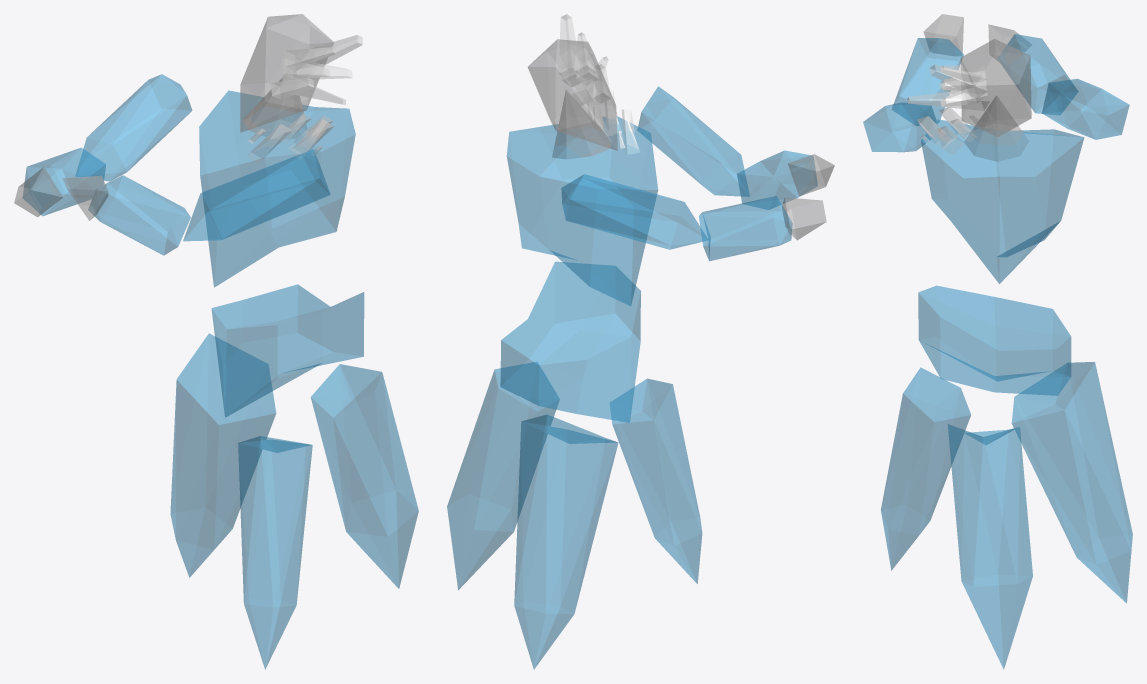
The model's file is ghostDistanceAttack22.obj.
3 renders of one model, left to right at view 1: azimuth 30°, elevation 25°; view 2: azimuth 150°, elevation 25°; view 3: azimuth 270°, elevation 25°, orthographic. The views are drawn at different scales.
Parts seen in each view (by area): view 1: Cube.001_Cube.007, Icosphere.020, Icosphere.019, Cube_Cube.007, Icosphere.018, Icosphere.005_Icosphere.007, Icosphere.003_Icosphere.007, Icosphere.007_Icosphere.006, Icosphere.006_Icosphere.006, Icosphere.008_Icosphere.006, Cone_Cone.007, Cube.003_Cube.007 (+7 smaller); view 2: Cube.001_Cube.007, Cube_Cube.007, Icosphere.020, Icosphere.019, Icosphere.018, Icosphere.007_Icosphere.006, Icosphere.003_Icosphere.007, Icosphere.005_Icosphere.007, Icosphere.008_Icosphere.006, Icosphere.006_Icosphere.006, Cone_Cone.007, Cube.003_Cube.007 (+3 smaller); view 3: Cube.001_Cube.007, Icosphere.020, Icosphere.019, Cube_Cube.007, Icosphere.018, Icosphere.003_Icosphere.007, Icosphere.007_Icosphere.006, Icosphere.008_Icosphere.006, Icosphere.006_Icosphere.006, Icosphere.005_Icosphere.007, Cone_Cone.007, Cube.002_Cube.007 (+7 smaller).
Boxes of the visible parts, x1,y1,x2,y2 form: Cube.001_Cube.007: [199, 90, 355, 287]; Icosphere.020: [170, 333, 276, 577]; Icosphere.019: [310, 364, 418, 588]; Cube_Cube.007: [211, 284, 364, 417]; Icosphere.018: [238, 436, 312, 669]; Icosphere.005_Icosphere.007: [183, 149, 330, 241]; Icosphere.003_Icosphere.007: [240, 14, 333, 132]; Icosphere.007_Icosphere.006: [76, 74, 192, 181]; Icosphere.006_Icosphere.006: [88, 175, 190, 255]; Icosphere.008_Icosphere.006: [23, 148, 105, 215]; Cone_Cone.007: [243, 78, 307, 138]; Cube.003_Cube.007: [14, 167, 62, 216]; Cube.001_Cube.007: [506, 116, 658, 305]; Cube_Cube.007: [500, 261, 640, 422]; Icosphere.020: [514, 414, 618, 669]; Icosphere.019: [447, 362, 559, 589]; Icosphere.018: [610, 378, 702, 583]; Icosphere.007_Icosphere.006: [561, 174, 707, 249]; Icosphere.003_Icosphere.007: [528, 39, 617, 150]; Icosphere.005_Icosphere.007: [637, 86, 749, 196]; Icosphere.008_Icosphere.006: [699, 196, 792, 261]; Icosphere.006_Icosphere.006: [737, 150, 817, 209]; Cone_Cone.007: [552, 90, 610, 159]; Cube.003_Cube.007: [782, 197, 826, 240]; Cube.001_Cube.007: [921, 119, 1083, 283]; Icosphere.020: [1011, 362, 1132, 603]; Icosphere.019: [947, 424, 1032, 669]; Cube_Cube.007: [918, 285, 1071, 395]; Icosphere.018: [881, 367, 970, 570]; Icosphere.003_Icosphere.007: [960, 39, 1031, 136]; Icosphere.007_Icosphere.006: [1042, 78, 1129, 139]; Icosphere.008_Icosphere.006: [998, 34, 1077, 114]; Icosphere.006_Icosphere.006: [892, 38, 963, 125]; Icosphere.005_Icosphere.007: [863, 102, 937, 152]; Cone_Cone.007: [964, 95, 1028, 161]; Cube.002_Cube.007: [924, 14, 963, 55].
Size of the model in its own units: 31.86 by 46.97 by 20.06.
